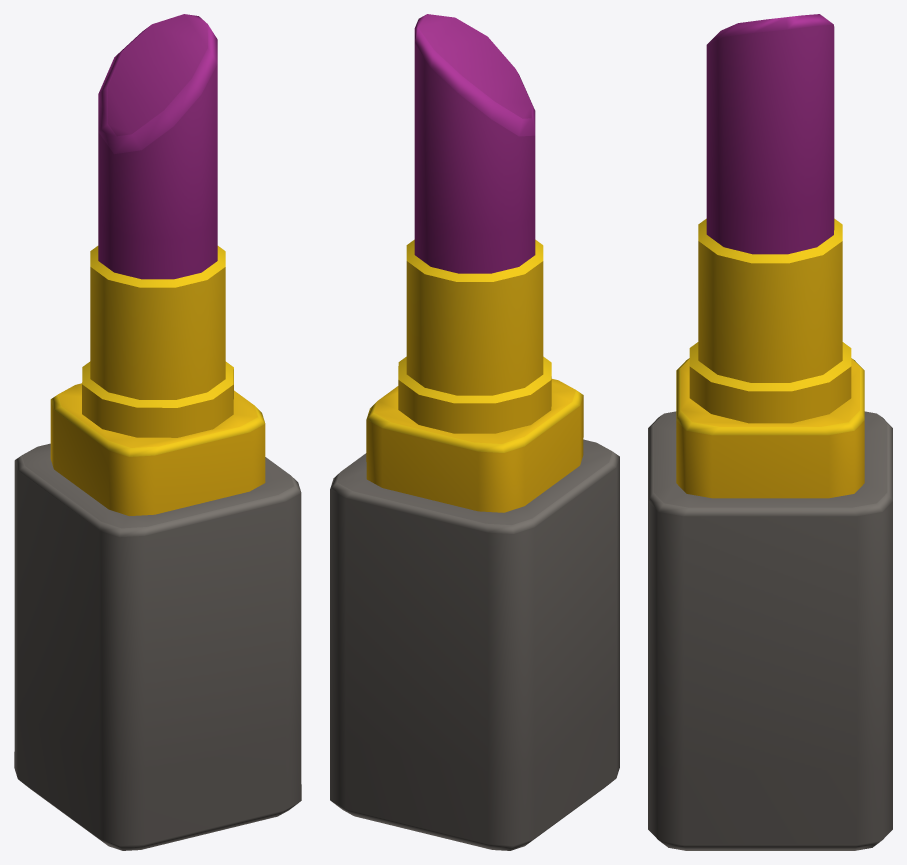
File: Lipstick.fbx
The picture shows the model from 3 angles, left to right: view 1: azimuth 30°, elevation 25°; view 2: azimuth 150°, elevation 25°; view 3: azimuth 270°, elevation 25°; orthographic projection. The views are drawn at different scales.
Parts seen in each view (by area): view 1: Lipstick; view 2: Lipstick; view 3: Lipstick.
Boxes of the visible parts, left/top/right/bottom form: Lipstick: left=14, top=14, right=301, bottom=850; Lipstick: left=330, top=14, right=619, bottom=850; Lipstick: left=648, top=14, right=892, bottom=850.
Bounding box in the file's own units: 0.961 × 3.52 × 0.961.
